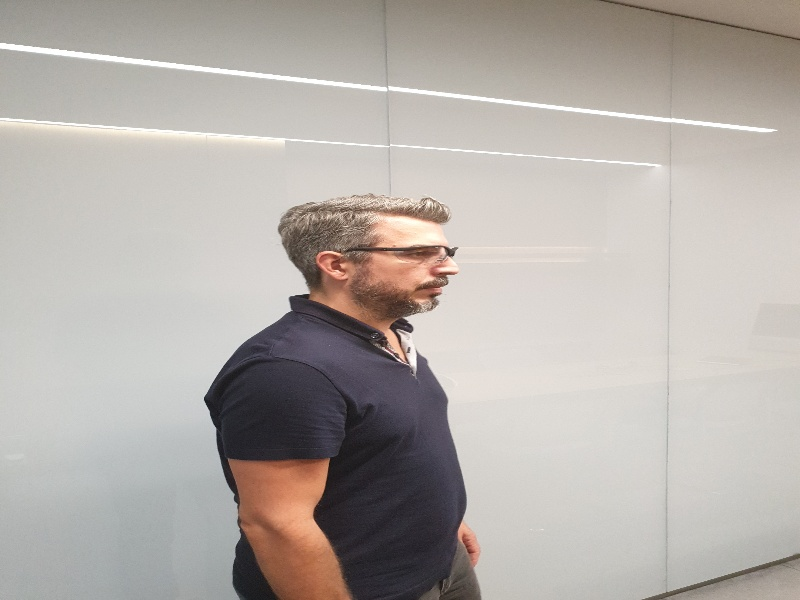Gozluk: (345, 243, 459, 263)
